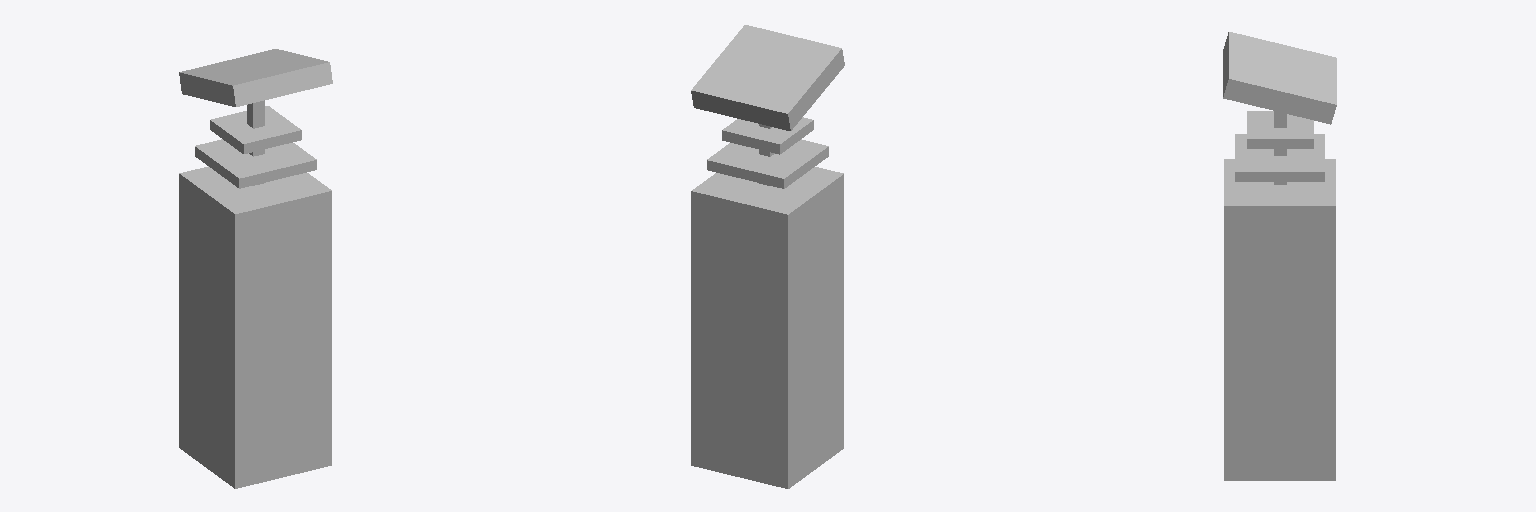
Rendered from PodConfigurator.obj.
3 renders of one model, left to right at view 1: azimuth 30°, elevation 25°; view 2: azimuth 150°, elevation 25°; view 3: azimuth 270°, elevation 25°, orthographic.
Visible parts, largest first — view 1: PodConfigerMesh_Cube.002; view 2: PodConfigerMesh_Cube.002; view 3: PodConfigerMesh_Cube.002.
Boxes of the visible parts, x1,y1,x2,y2 form: PodConfigerMesh_Cube.002: [179, 49, 332, 488]; PodConfigerMesh_Cube.002: [691, 25, 844, 488]; PodConfigerMesh_Cube.002: [1223, 32, 1336, 480].
Size of the model in its own units: 0.0998 by 0.395 by 0.1016.